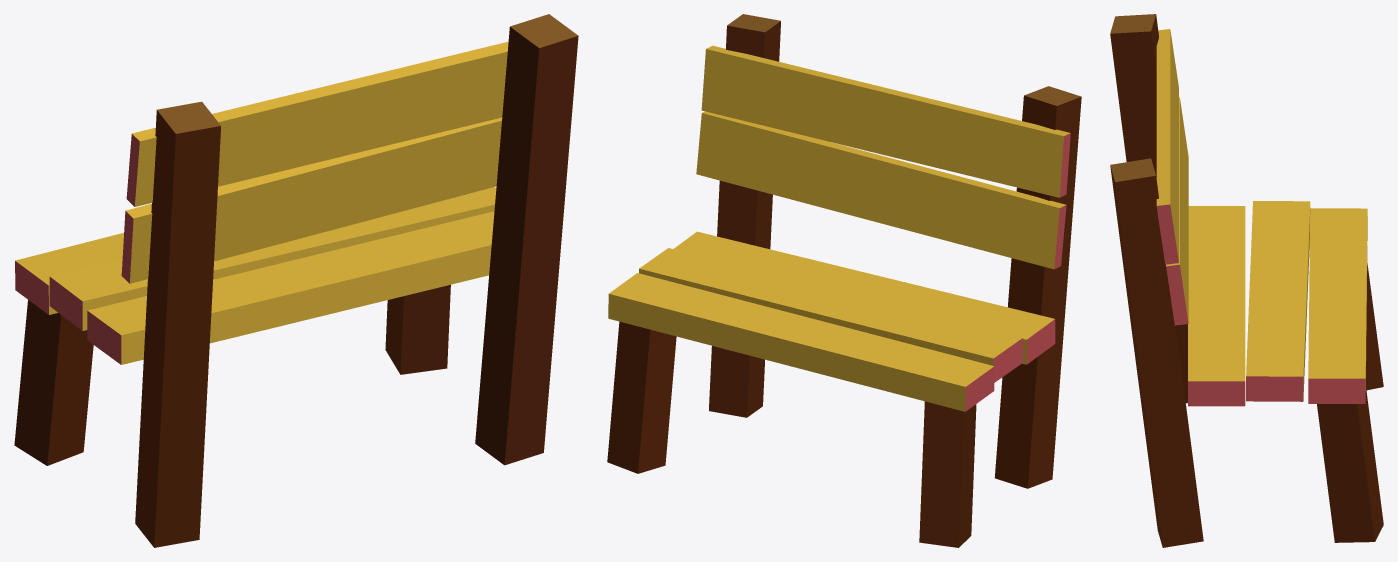
Rendered from Bench.fbx.
3 renders of one model, left to right at view 1: azimuth 30°, elevation 25°; view 2: azimuth 150°, elevation 25°; view 3: azimuth 270°, elevation 25°, orthographic. The views are drawn at different scales.
Parts seen in each view (by area): view 1: Cube.007; view 2: Cube.007; view 3: Cube.007.
Boxes of the visible parts, x1,y1,x2,y2 form: Cube.007: [14, 14, 578, 547]; Cube.007: [607, 14, 1081, 547]; Cube.007: [1110, 14, 1383, 547].
Size of the model in its own units: 421 by 416 by 277.
Materials: 1 (1 with a texture image).
